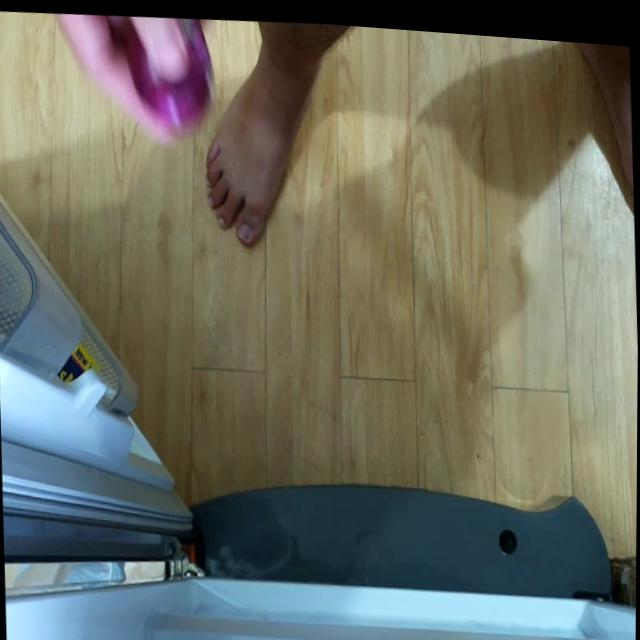onion: (124, 12, 212, 139)
